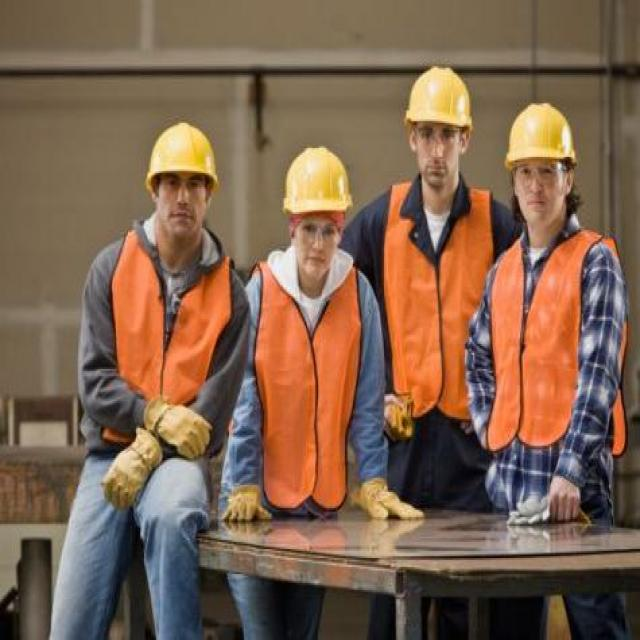Reflective-Jacket: (100, 237, 236, 464), (251, 253, 365, 515), (377, 189, 497, 422), (488, 225, 610, 454)
Safety-Helmet: (504, 96, 581, 173), (280, 141, 354, 219), (144, 116, 222, 189), (402, 63, 476, 130)
